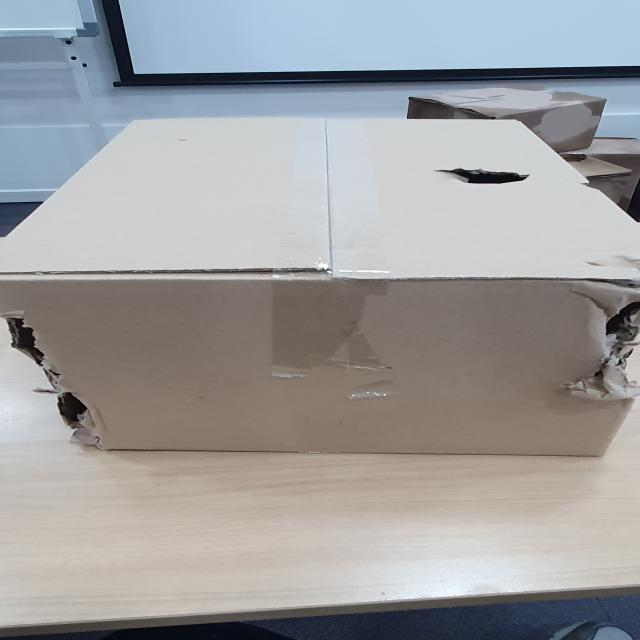hole: (0, 300, 99, 426), (591, 287, 640, 393), (433, 162, 537, 192)
